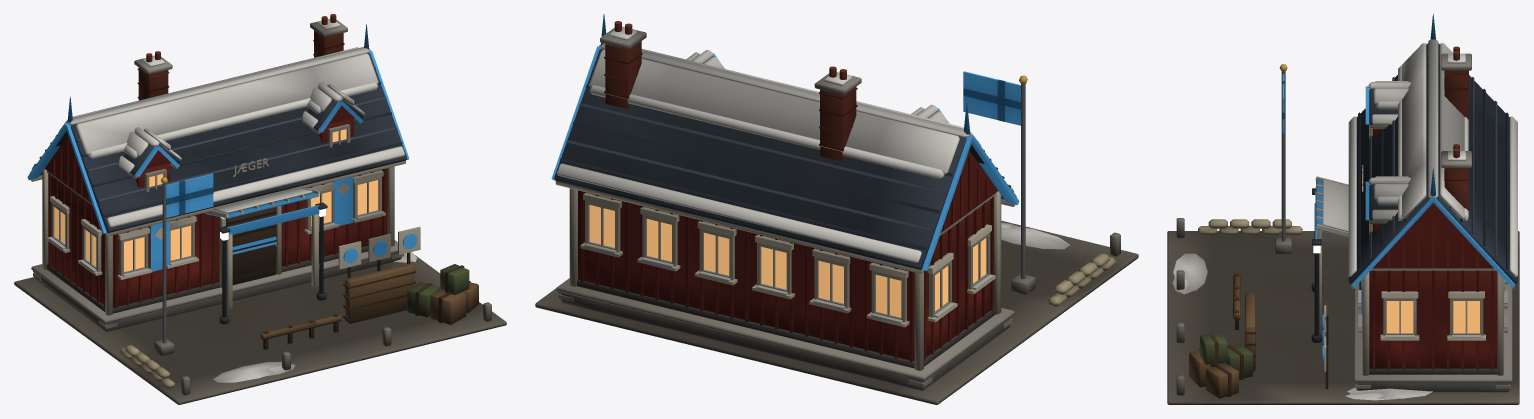
Rendered from barracks.glb.
3 views of the same model, side by side, from view 1: azimuth 30°, elevation 25°; view 2: azimuth 150°, elevation 25°; view 3: azimuth 270°, elevation 25° (orthographic). The views are drawn at different scales.
Parts seen in each view (by area): view 1: barracks_root_matte, barracks_root_trim, barracks_root_glass, barracks_door_matte, barracks_root_metal, flag; view 2: barracks_root_matte, barracks_root_glass, barracks_root_trim, flag, barracks_root_metal; view 3: barracks_root_matte, barracks_root_trim, barracks_root_glass, barracks_root_metal.
Part boxes in pixels (x1,y1,x2,y2): barracks_root_matte: [14, 14, 506, 404]; barracks_root_trim: [27, 24, 417, 271]; barracks_root_glass: [54, 129, 378, 271]; barracks_door_matte: [226, 207, 276, 285]; barracks_root_metal: [161, 177, 327, 343]; flag: [166, 173, 213, 217]; barracks_root_matte: [535, 21, 1138, 404]; barracks_root_glass: [589, 205, 986, 317]; barracks_root_trim: [551, 14, 1019, 271]; flag: [963, 71, 1020, 125]; barracks_root_metal: [1019, 75, 1027, 279]; barracks_root_matte: [1167, 39, 1519, 404]; barracks_root_trim: [1315, 14, 1514, 362]; barracks_root_glass: [1386, 301, 1479, 333]; barracks_root_metal: [1279, 64, 1322, 342].
Bounding box in the file's own units: 12.2 × 8.02 × 10.6.
